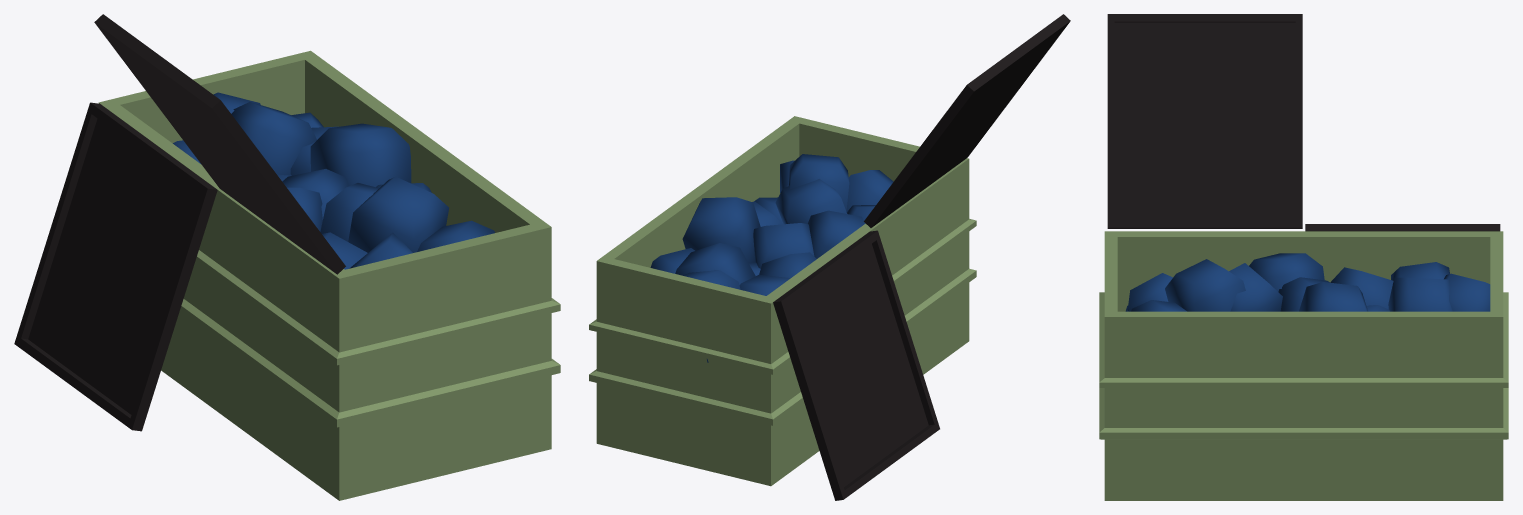
The model's file is Dumpster.fbx.
The picture shows the model from 3 angles, left to right: view 1: azimuth 30°, elevation 25°; view 2: azimuth 150°, elevation 25°; view 3: azimuth 270°, elevation 25°; orthographic projection. The views are drawn at different scales.
Visible parts, largest first — view 1: Dumpster, Lid Right, Bags, Lid Left; view 2: Dumpster, Lid Right, Bags, Lid Left; view 3: Dumpster, Lid Left, Bags, Lid Right.
Part boxes in pixels (bbox=[...]): Dumpster: bbox=[98, 50, 560, 500]; Lid Right: bbox=[14, 102, 217, 431]; Bags: bbox=[173, 92, 494, 269]; Lid Left: bbox=[94, 14, 345, 274]; Dumpster: bbox=[589, 116, 976, 486]; Lid Right: bbox=[773, 230, 939, 500]; Bags: bbox=[650, 154, 893, 362]; Lid Left: bbox=[864, 14, 1070, 227]; Dumpster: bbox=[1099, 231, 1508, 500]; Lid Left: bbox=[1107, 14, 1302, 228]; Bags: bbox=[1125, 253, 1490, 311]; Lid Right: bbox=[1305, 224, 1500, 231].
Size of the model in its own units: 11.17 by 13.32 by 13.94.
